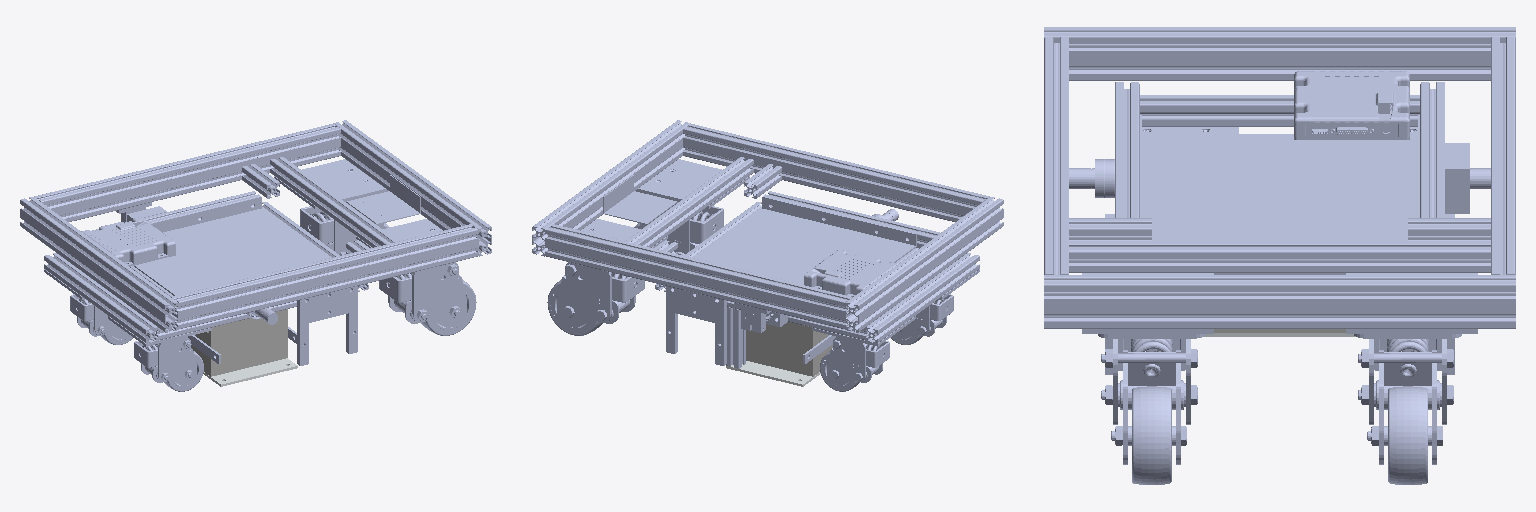
--- Render facts (derived) ---
3 views of the same robot in one strip: view 1: azimuth 30°, elevation 25°; view 2: azimuth 150°, elevation 25°; view 3: azimuth 270°, elevation 25° (orthographic).
Model cad_assembly_amr_final_1 with 40 links and 39 joints (2 continuous, 2 prismatic, 35 fixed), rooted at base_link, posed all joints at 0.
Visible links, largest first — view 1: Link3, Link33, Link4, Link5, Link6, Link17, Link2, Link16, Link8, Link1, Link21, Link35 (+10 smaller); view 2: Link4, Link33, Link3, Link5, Link6, Link23, Link2, Link16, Link1, Link28, Link8, Link34 (+12 smaller); view 3: Link33, Link6, Link5, Link16, Link17, Link23, Link8, Link3, Link4, Link1, Link26, Link27 (+10 smaller).
Link boxes in pixels (x1,y1,x2,y2): Link3: (171, 224, 477, 328); Link33: (134, 196, 328, 295); Link4: (34, 123, 340, 221); Link5: (20, 197, 178, 332); Link6: (334, 120, 491, 256); Link17: (379, 262, 476, 335); Link2: (191, 309, 287, 376); Link16: (270, 157, 398, 247); Link8: (81, 217, 175, 266); Link1: (44, 253, 158, 343); Link21: (134, 337, 203, 391); Link35: (297, 286, 357, 365); Link4: (546, 224, 852, 328); Link33: (695, 196, 916, 284); Link3: (683, 123, 989, 221); Link5: (845, 197, 1003, 332); Link6: (532, 120, 689, 256); Link23: (547, 262, 644, 335); Link2: (746, 322, 832, 376); Link16: (625, 157, 753, 247); Link1: (865, 253, 979, 343); Link28: (820, 337, 889, 391); Link8: (804, 250, 897, 296); Link34: (666, 286, 726, 365); Link33: (1140, 115, 1419, 240); Link6: (1044, 275, 1515, 328); Link5: (1044, 27, 1515, 80); Link16: (1069, 241, 1490, 272); Link17: (1098, 334, 1205, 484); Link23: (1354, 334, 1461, 484); Link8: (1294, 71, 1409, 139); Link3: (1044, 37, 1068, 274); Link4: (1491, 37, 1515, 274); Link1: (1140, 95, 1419, 126); Link26: (1115, 82, 1139, 217); Link27: (1420, 82, 1444, 217).
Bounding box of the posed robot: 0.7703 × 0.57 × 0.276 m (x, y, z).
Meshes: 40 distinct files referenced, 36 mesh visuals loaded (36 binary STL); not drawn: 4 (reference not matched to a file when rendering).

robot.urdf — cad_assembly_amr_final_1:
<?xml version="1.0" encoding="utf-8"?>
<!-- This URDF was automatically created by SolidWorks to URDF Exporter! Originally created by Stephen Brawner ([email redacted]) 
     Commit Version: 1.6.0-4-g7f85cfe  Build Version: 1.6.7995.38578
     For more information, please see http://wiki.ros.org/sw_urdf_exporter -->
<robot 
  name="cad_assembly_amr_final_1">


<!--                     GAZEBO_PLUGINS                  -->

  <gazebo>
    <plugin filename="libgazebo_ros_diff_drive.so" name="differential_drive_controller" >
      <legacyMode>false</legacyMode>
      <alwaysOn>true</alwaysOn>
      <updateRate>20</updateRate>
      <leftJoint>left_joint</leftJoint>
      <rightJoint>joint_right</rightJoint>
      <wheelSeparation>0.56</wheelSeparation>
      <wheelDiameter>0.154</wheelDiameter>
      <torque>4</torque>
      <commandTopic>cmd_vel</commandTopic>
      <odometryTopic>odom</odometryTopic>
      <odometryFrame>odom</odometryFrame>
      <robotBaseFrame>base_link</robotBaseFrame>
    </plugin>
  </gazebo>

  <gazebo reference="sensor_laser">
    <sensor type="ray" name="head_hokuyo_sensor">
      <pose>0 0 0 0 0 0</pose>
      <visualize>false</visualize>
      <update_rate>40</update_rate>
      <ray>
        <scan>
          <horizontal>
            <samples>720</samples>
            <resolution>1</resolution>
            <min_angle>-1.570796</min_angle>
            <max_angle>1.570796</max_angle>
          </horizontal>
        </scan>
        <range>
          <min>0.10</min>
          <max>10.0</max>
          <resolution>0.01</resolution>
        </range>
        <noise>
          <type>gaussian</type>
          <mean>0.0</mean>
          <stddev>0.01</stddev>
        </noise>
      </ray>
      <plugin name="gazebo_ros_head_hokuyo_controller" filename="libgazebo_ros_laser.so">
        <topicName>/cad_assembly_amr_final_1/laser/scan</topicName>
        <frameName>sensor_laser</frameName>
      </plugin>
    </sensor>
  </gazebo>

<!--                     URDF               -->

  <link
    name="base_link">
    <inertial>
      <origin
        xyz="-0.216440047250855 -0.0311678812011165 0.0267999999999496"
        rpy="0 0 0" />
      <mass
        value="0.941935769065505" />
      <inertia
        ixx="0.0124970752255346"
        ixy="3.31870238430256E-17"
        ixz="-8.36937029359261E-18"
        iyy="0.0023975609154183"
        iyz="-4.36036057524128E-17"
        izz="0.0148907114085818" />
    </inertial>
    <visual>
      <origin
        xyz="0 0 0"
        rpy="0 0 0" />
      <geometry>
        <mesh
          filename="package://cad_assembly_amr_final_1/meshes/base_link.STL" />
      </geometry>
      <material
        name="">
        <color
          rgba="0.898039215686275 0.917647058823529 0.929411764705882 1" />
      </material>
    </visual>
    <collision>
      <origin
        xyz="0 0 0"
        rpy="0 0 0" />
      <geometry>
        <mesh
          filename="package://cad_assembly_amr_final_1/meshes/base_link.STL" />
      </geometry>
    </collision>
  </link>
  <link
    name="left_wheel">
    <inertial>
      <origin
        xyz="5.73941775963982E-05 -0.0547817281545586 0.000662361701355196"
        rpy="0 0 0" />
      <mass
        value="1.15411724032787" />
      <inertia
        ixx="0.00169670713331925"
        ixy="8.3068554945323E-08"
        ixz="-1.47480764218124E-07"
        iyy="0.00298663361197173"
        iyz="8.62121560025982E-08"
        izz="0.00167881991277623" />
    </inertial>
    <visual>
      <origin
        xyz="0 0 0"
        rpy="0 0 0" />
      <geometry>
        <mesh
          filename="package://cad_assembly_amr_final_1/meshes/left_wheel.STL" />
      </geometry>
      <material
        name="">
        <color
          rgba="0.792156862745098 0.819607843137255 0.933333333333333 1" />
      </material>
    </visual>
    <collision>
      <origin
        xyz="0 0 0"
        rpy="0 0 0" />
      <geometry>
        <mesh
          filename="package://cad_assembly_amr_final_1/meshes/left_wheel.STL" />
      </geometry>
    </collision>
  </link>
  <joint
    name="left_joint"
    type="continuous">
    <origin
      xyz="-0.0649400472508853 0.249032118798883 0.0781599999999999"
      rpy="0 0 0" />
    <parent
      link="base_link" />
    <child
      link="left_wheel" />
    <axis
      xyz="0 -1 0" />
    <limit
      effort="5"
      velocity="315" />
  </joint>
  <link
    name="right_wheel">
    <inertial>
      <origin
        xyz="-5.73941775350029E-05 0.0547817281545965 0.000662361701394734"
        rpy="0 0 0" />
      <mass
        value="1.15411724032822" />
      <inertia
        ixx="0.00169670713331966"
        ixy="8.30685548989815E-08"
        ixz="1.47480764332087E-07"
        iyy="0.00298663361197211"
        iyz="-8.62121559036301E-08"
        izz="0.00167881991277635" />
    </inertial>
    <visual>
      <origin
        xyz="0 0 0"
        rpy="0 0 0" />
      <geometry>
        <mesh
          filename="package://cad_assembly_amr_final_1/meshes/right_wheel.STL" />
      </geometry>
      <material
        name="">
        <color
          rgba="0.792156862745098 0.819607843137255 0.933333333333333 1" />
      </material>
    </visual>
    <collision>
      <origin
        xyz="0 0 0"
        rpy="0 0 0" />
      <geometry>
        <mesh
          filename="package://cad_assembly_amr_final_1/meshes/right_wheel.STL" />
      </geometry>
    </collision>
  </link>
  <joint
    name="joint_right"
    type="continuous">
    <origin
      xyz="-0.0649400472508853 -0.311367881201119 0.0781599999999999"
      rpy="0 0 0" />
    <parent
      link="base_link" />
    <child
      link="right_wheel" />
    <axis
      xyz="0 -1 0" />
    <limit
      effort="5"
      velocity="315" />
  </joint>
  <link
    name="Link1">
    <inertial>
      <origin
        xyz="-0.458940047250855 -0.0311678812011156 0.172299999999953"
        rpy="0 0 0" />
      <mass
        value="0.15370520802836" />
      <inertia
        ixx="0.00206367743977508"
        ixy="2.90201902564923E-21"
        ixz="-3.90910694090929E-21"
        iyy="2.85493321272229E-05"
        iyz="-8.57924550641996E-21"
        izz="0.00206367743977508" />
    </inertial>
    <visual>
      <origin
        xyz="0 0 0"
        rpy="0 0 0" />
      <geometry>
        <mesh
          filename="package://cad_assembly_amr_final_1/meshes/Link1.STL" />
      </geometry>
      <material
        name="">
        <color
          rgba="0.792156862745098 0.819607843137255 0.933333333333333 1" />
      </material>
    </visual>
    <collision>
      <origin
        xyz="0 0 0"
        rpy="0 0 0" />
      <geometry>
        <mesh
          filename="package://cad_assembly_amr_final_1/meshes/Link1.STL" />
      </geometry>
    </collision>
  </link>
  <joint
    name="joint1"
    type="fixed">
    <origin
      xyz="0 0 0"
      rpy="0 0 0" />
    <parent
      link="base_link" />
    <child
      link="Link1" />
    <axis
      xyz="0 0 0" />
  </joint>
  <link
    name="Link2">
    <inertial>
      <origin
        xyz="-0.216490430161542 -0.0312444036729151 0.107765712146774"
        rpy="0 0 0" />
      <mass
        value="8.71276230076757" />
      <inertia
        ixx="0.0919527713651485"
        ixy="-6.14228140772403E-05"
        ixz="1.26116698146279E-05"
        iyy="0.0398150311485115"
        iyz="1.91549924270925E-05"
        izz="0.096665853431385" />
    </inertial>
    <visual>
      <origin
        xyz="0 0 0"
        rpy="0 0 0" />
      <geometry>
        <mesh
          filename="package://cad_assembly_amr_final_1/meshes/Link2.STL" />
      </geometry>
      <material
        name="">
        <color
          rgba="0.752941176470588 0.752941176470588 0.752941176470588 1" />
      </material>
    </visual>
    <collision>
      <origin
        xyz="0 0 0"
        rpy="0 0 0" />
      <geometry>
        <mesh
          filename="package://cad_assembly_amr_final_1/meshes/Link2.STL" />
      </geometry>
    </collision>
  </link>
  <joint
    name="Joint2"
    type="prismatic">
    <origin
      xyz="0 0 0"
      rpy="0 0 0" />
    <parent
      link="base_link" />
    <child
      link="Link2" />
    <axis
      xyz="0 0 1" />
    <limit
      lower="0"
      upper="0"
      effort="0"
      velocity="0" />
  </joint>
  <link
    name="Link3">
    <inertial>
      <origin
        xyz="-0.108940047250836 -0.301167881198528 0.246000000014389"
        rpy="0 0 0" />
      <mass
        value="0.436520685221923" />
      <inertia
        ixx="0.000205716006741984"
        ixy="-5.92031368264508E-17"
        ixz="-3.8099743968262E-19"
        iyy="0.0169853684284612"
        iyz="3.96954847930399E-09"
        izz="0.0168615417193838" />
    </inertial>
    <visual>
      <origin
        xyz="0 0 0"
        rpy="0 0 0" />
      <geometry>
        <mesh
          filename="package://cad_assembly_amr_final_1/meshes/Link3.STL" />
      </geometry>
      <material
        name="">
        <color
          rgba="0.792156862745098 0.819607843137255 0.933333333333333 1" />
      </material>
    </visual>
    <collision>
      <origin
        xyz="0 0 0"
        rpy="0 0 0" />
      <geometry>
        <mesh
          filename="package://cad_assembly_amr_final_1/meshes/Link3.STL" />
      </geometry>
    </collision>
  </link>
  <joint
    name="Joint3"
    type="fixed">
    <origin
      xyz="0 0 0"
      rpy="0 0 0" />
    <parent
      link="base_link" />
    <child
      link="Link3" />
    <axis
      xyz="0 0 0" />
  </joint>
  <link
    name="Link4">
    <inertial>
      <origin
        xyz="-0.108940047250849 0.238832118801473 0.246000000014392"
        rpy="0 0 0" />
      <mass
        value="0.436520685221924" />
      <inertia
        ixx="0.000205716006741984"
        ixy="-6.53733304446301E-17"
        ixz="-1.42190742874982E-19"
        iyy="0.0169853684284612"
        iyz="3.96954847929519E-09"
        izz="0.0168615417193838" />
    </inertial>
    <visual>
      <origin
        xyz="0 0 0"
        rpy="0 0 0" />
      <geometry>
        <mesh
          filename="package://cad_assembly_amr_final_1/meshes/Link4.STL" />
      </geometry>
      <material
        name="">
        <color
          rgba="0.792156862745098 0.819607843137255 0.933333333333333 1" />
      </material>
    </visual>
    <collision>
      <origin
        xyz="0 0 0"
        rpy="0 0 0" />
      <geometry>
        <mesh
          filename="package://cad_assembly_amr_final_1/meshes/Link4.STL" />
      </geometry>
    </collision>
  </link>
  <joint
    name="Joint4"
    type="fixed">
    <origin
      xyz="0 0 0"
      rpy="0 0 0" />
    <parent
      link="base_link" />
    <child
      link="Link4" />
    <axis
      xyz="0 0 0" />
  </joint>
  <link
    name="Link5">
    <inertial>
      <origin
        xyz="-0.463940047248248 -0.0311678812011161 0.246000000014383"
        rpy="0 0 0" />
      <mass
        value="0.365907044965438" />
      <inertia
        ixx="0.0100450504100988"
        ixy="-4.70359182903092E-20"
        ixz="3.32741563710327E-09"
        iyy="0.000172438417416075"
        iyz="-1.15593361528387E-19"
        izz="0.00994125449219573" />
    </inertial>
    <visual>
      <origin
        xyz="0 0 0"
        rpy="0 0 0" />
      <geometry>
        <mesh
          filename="package://cad_assembly_amr_final_1/meshes/Link5.STL" />
      </geometry>
      <material
        name="">
        <color
          rgba="0.792156862745098 0.819607843137255 0.933333333333333 1" />
      </material>
    </visual>
    <collision>
      <origin
        xyz="0 0 0"
        rpy="0 0 0" />
      <geometry>
        <mesh
          filename="package://cad_assembly_amr_final_1/meshes/Link5.STL" />
      </geometry>
    </collision>
  </link>
  <joint
    name="Joint5"
    type="fixed">
    <origin
      xyz="0 0 0"
      rpy="0 0 0" />
    <parent
      link="base_link" />
    <child
      link="Link5" />
    <axis
      xyz="0 0 0" />
  </joint>
  <link
    name="Link6">
    <inertial>
      <origin
        xyz="0.246059952751741 -0.0311678812011162 0.246000000014393"
        rpy="0 0 0" />
      <mass
        value="0.365907044965436" />
      <inertia
        ixx="0.0100450504100988"
        ixy="-3.50320549018335E-20"
        ixz="3.32741563708656E-09"
        iyy="0.000172438417416075"
        iyz="-1.32818398610428E-19"
        izz="0.0099412544921957" />
    </inertial>
    <visual>
      <origin
        xyz="0 0 0"
        rpy="0 0 0" />
      <geometry>
        <mesh
          filename="package://cad_assembly_amr_final_1/meshes/Link6.STL" />
      </geometry>
      <material
        name="">
        <color
          rgba="0.792156862745098 0.819607843137255 0.933333333333333 1" />
      </material>
    </visual>
    <collision>
      <origin
        xyz="0 0 0"
        rpy="0 0 0" />
      <geometry>
        <mesh
          filename="package://cad_assembly_amr_final_1/meshes/Link6.STL" />
      </geometry>
    </collision>
  </link>
  <joint
    name="Joint6"
    type="fixed">
    <origin
      xyz="0 0 0"
      rpy="0 0 0" />
    <parent
      link="base_link" />
    <child
      link="Link6" />
    <axis
      xyz="0 0 0" />
  </joint>
  <link
    name="Link7">
    <inertial>
      <origin
        xyz="-0.143940047250853 0.153832118798883 0.0932999999999522"
        rpy="0 0 0" />
      <mass
        value="0.049185666569075" />
      <inertia
        ixx="7.17227232293328E-05"
        ixy="-5.54037167522794E-21"
        ixz="-4.38999970166423E-19"
        iyy="7.17227232293328E-05"
        iyz="-6.39884951765641E-21"
        izz="9.13578628071131E-06" />
    </inertial>
    <visual>
      <origin
        xyz="0 0 0"
        rpy="0 0 0" />
      <geometry>
        <mesh
          filename="package://cad_assembly_amr_final_1/meshes/Link7.STL" />
      </geometry>
      <material
        name="">
        <color
          rgba="0.792156862745098 0.819607843137255 0.933333333333333 1" />
      </material>
    </visual>
    <collision>
      <origin
        xyz="0 0 0"
        rpy="0 0 0" />
      <geometry>
        <mesh
          filename="package://cad_assembly_amr_final_1/meshes/Link7.STL" />
      </geometry>
    </collision>
  </link>
  <joint
    name="Joint7"
    type="fixed">
    <origin
      xyz="0 0 0"
      rpy="0 0 0" />
    <parent
      link="base_link" />
    <child
      link="Link7" />
    <axis
      xyz="0 0 0" />
  </joint>
  <link
    name="Link8">
    <inertial>
      <origin
        xyz="-0.34461493448113 0.0576127554531144 0.227311211733729"
        rpy="0 0 0" />
      <mass
        value="0.167225523651081" />
      <inertia
        ixx="0.000275275668175092"
        ixy="-2.89256050943276E-06"
        ixz="1.63881732203638E-07"
        iyy="0.000234531995078022"
        iyz="6.81651222029033E-08"
        izz="0.000502995235545693" />
    </inertial>
    <visual>
      <origin
        xyz="0 0 0"
        rpy="0 0 0" />
      <geometry>
        <mesh
          filename="package://cad_assembly_amr_final_1/meshes/Link8.STL" />
      </geometry>
      <material
        name="">
        <color
          rgba="0.792156862745098 0.819607843137255 0.933333333333333 1" />
      </material>
    </visual>
    <collision>
      <origin
        xyz="0 0 0"
        rpy="0 0 0" />
      <geometry>
        <mesh
          filename="package://cad_assembly_amr_final_1/meshes/Link8.STL" />
      </geometry>
    </collision>
  </link>
  <joint
    name="Joint8"
    type="prismatic">
    <origin
      xyz="0 0 0"
      rpy="0 0 0" />
    <parent
      link="base_link" />
    <child
      link="Link8" />
    <axis
      xyz="0 0 1" />
    <limit
      lower="0"
      upper="0"
      effort="0"
      velocity="0" />
  </joint>
  <link
    name="Link9">
    <inertial>
      <origin
        xyz="-0.231940047250852 0.208822722298121 0.187299999999951"
        rpy="0 0 0" />
      <mass
        value="0.0391600670951286" />
      <inertia
        ixx="2.24437538896452E-05"
        ixy="-6.64015770809315E-20"
        ixz="2.80630673249095E-22"
        iyy="3.05153745176888E-06"
        iyz="1.35760775584513E-20"
        izz="2.24437538896452E-05" />
    </inertial>
    <visual>
      <origin
        xyz="0 0 0"
        rpy="0 0 0" />
      <geometry>
        <mesh
          filename="package://cad_assembly_amr_final_1/meshes/Link9.STL" />
      </geometry>
      <material
        name="">
        <color
          rgba="0.792156862745098 0.819607843137255 0.933333333333333 1" />
      </material>
    </visual>
    <collision>
      <origin
        xyz="0 0 0"
        rpy="0 0 0" />
      <geometry>
        <mesh
          filename="package://cad_assembly_amr_final_1/meshes/Link9.STL" />
      </geometry>
    </collision>
  </link>
  <joint
    name="Joint9"
    type="fixed">
    <origin
      xyz="0 0 0"
      rpy="0 0 0" />
    <parent
      link="base_link" />
    <child
      link="Link9" />
    <axis
      xyz="0 0 1" />
  </joint>
  <link
    name="Link10">
    <inertial>
      <origin
        xyz="-0.338940047250853 -0.0311678812011153 0.172299999999948"
        rpy="0 0 0" />
      <mass
        value="0.130649426824106" />
      <inertia
        ixx="0.00127072294455962"
        ixy="-2.74895614072112E-21"
        ixz="-4.26701118985479E-21"
        iyy="2.42669323081394E-05"
        iyz="3.66726053682152E-21"
        izz="0.00127072294455962" />
    </inertial>
    <visual>
      <origin
        xyz="0 0 0"
        rpy="0 0 0" />
      <geometry>
        <mesh
          filename="package://cad_assembly_amr_final_1/meshes/Link10.STL" />
      </geometry>
      <material
        name="">
        <color
          rgba="0.792156862745098 0.819607843137255 0.933333333333333 1" />
      </material>
    </visual>
    <collision>
      <origin
        xyz="0 0 0"
        rpy="0 0 0" />
      <geometry>
        <mesh
          filename="package://cad_assembly_amr_final_1/meshes/Link10.STL" />
      </geometry>
    </collision>
  </link>
  <joint
    name="joint10"
    type="fixed">
    <origin
      xyz="0 0 0"
      rpy="0 0 0" />
    <parent
      link="base_link" />
    <child
      link="Link10" />
    <axis
      xyz="0 0 0" />
  </joint>
  <link
    name="Link11">
    <inertial>
      <origin
        xyz="-0.39894032888209 -0.15616793697623 0.154300404631122"
        rpy="0 0 0" />
      <mass
        value="0.129293462534657" />
      <inertia
        ixx="0.000238325033060038"
        ixy="-1.11769772959299E-09"
        ixz="1.74400910964592E-11"
        iyy="0.000238264542930696"
        iyz="-9.64634866429045E-12"
        izz="0.000475813644424298" />
    </inertial>
    <visual>
      <origin
        xyz="0 0 0"
        rpy="0 0 0" />
      <geometry>
        <mesh
          filename="package://cad_assembly_amr_final_1/meshes/Link11.STL" />
      </geometry>
      <material
        name="">
        <color
          rgba="0.792156862745098 0.819607843137255 0.933333333333333 1" />
      </material>
    </visual>
    <collision>
      <origin
        xyz="0 0 0"
        rpy="0 0 0" />
      <geometry>
        <mesh
          filename="package://cad_assembly_amr_final_1/meshes/Link11.STL" />
      </geometry>
    </collision>
  </link>
  <joint
    name="Joint11"
    type="fixed">
    <origin
      xyz="0 0 0"
      rpy="0 0 0" />
    <parent
      link="base_link" />
    <child
      link="Link11" />
    <axis
      xyz="0 0 0" />
  </joint>
  <link
    name="Link12">
    <inertial>
      <origin
        xyz="-0.398940328882089 0.0938320630237707 0.154300404631121"
        rpy="0 0 0" />
      <mass
        value="0.129293462534657" />
      <inertia
        ixx="0.000238325033060038"
        ixy="-1.11769772956574E-09"
        ixz="1.74400910811975E-11"
        iyy="0.000238264542930696"
        iyz="-9.64634865955567E-12"
        izz="0.000475813644424298" />
    </inertial>
    <visual>
      <origin
        xyz="0 0 0"
        rpy="0 0 0" />
      <geometry>
        <mesh
          filename="package://cad_assembly_amr_final_1/meshes/Link12.STL" />
      </geometry>
      <material
        name="">
        <color
          rgba="0.792156862745098 0.819607843137255 0.933333333333333 1" />
      </material>
    </visual>
    <collision>
      <origin
        xyz="0 0 0"
        rpy="0 0 0" />
      <geometry>
        <mesh
          filename="package://cad_assembly_amr_final_1/meshes/Link12.STL" />
      </geometry>
    </collision>
  </link>
  <joint
    name="Joint12"
    type="fixed">
    <origin
      xyz="0 0 0"
      rpy="0 0 0" />
    <parent
      link="base_link" />
    <child
      link="Link12" />
    <axis
      xyz="0 0 0" />
  </joint>
  <link
    name="Link13">
    <inertial>
      <origin
        xyz="0.166060194442634 -0.191167238858664 0.213000461362713"
        rpy="0 0 0" />
      <mass
        value="0.176211069113397" />
      <inertia
        ixx="0.000377128569827464"
        ixy="-5.87470674607782E-11"
        ixz="1.30516120517496E-10"
        iyy="0.000520401312984034"
        iyz="-9.56457410198861E-11"
        izz="0.000896472361284732" />
    </inertial>
    <visual>
      <origin
        xyz="0 0 0"
        rpy="0 0 0" />
      <geometry>
        <mesh
          filename="package://cad_assembly_amr_final_1/meshes/Link13.STL" />
      </geometry>
      <material
        name="">
        <color
          rgba="0.792156862745098 0.819607843137255 0.933333333333333 1" />
      </material>
    </visual>
    <collision>
      <origin
        xyz="0 0 0"
        rpy="0 0 0" />
      <geometry>
        <mesh
          filename="package://cad_assembly_amr_final_1/meshes/Link13.STL" />
      </geometry>
    </collision>
  </link>
  <joint
    name="Joint13"
    type="fixed">
    <origin
      xyz="0 0 0"
      rpy="0 0 0" />
    <parent
      link="base_link" />
    <child
      link="Link13" />
    <axis
      xyz="0 0 0" />
  </joint>
  <link
    name="Link14">
    <inertial>
      <origin
        xyz="0.166060194442634 0.128832761141336 0.213000461362742"
        rpy="0 0 0" />
      <mass
        value="0.176211069113397" />
      <inertia
        ixx="0.000377128569827464"
        ixy="-5.87470673558241E-11"
        ixz="1.30516120518467E-10"
        iyy="0.000520401312984033"
        iyz="-9.56457410195288E-11"
        izz="0.000896472361284732" />
    </inertial>
    <visual>
      <origin
        xyz="0 0 0"
        rpy="0 0 0" />
      <geometry>
        <mesh
          filename="package://cad_assembly_amr_final_1/meshes/Link14.STL" />
      </geometry>
      <material
        name="">
        <color
          rgba="0.792156862745098 0.819607843137255 0.933333333333333 1" />
      </material>
    </visual>
    <collision>
      <origin
        xyz="0 0 0"
        rpy="0 0 0" />
      <geometry>
        <mesh
          filename="package://cad_assembly_amr_final_1/meshes/Link14.STL" />
      </geometry>
    </collision>
  </link>
  <joint
    name="Joint14"
    type="fixed">
    <origin
      xyz="0 0 0"
      rpy="0 0 0" />
    <parent
      link="base_link" />
    <child
      link="Link14" />
    <axis
      xyz="0 0 0" />
  </joint>
  <link
    name="Link15">
    <inertial>
      <origin
        xyz="0.193802618405017 -0.0311748788022809 0.223807483818397"
        rpy="0 0 0" />
      <mass
        value="0.0323246017763136" />
      <inertia
        ixx="4.18109611006956E-05"
        ixy="-3.78710175068604E-09"
        ixz="-5.63438975707762E-06"
        iyy="3.78541672516329E-05"
        iyz="-1.08742722110766E-09"
        izz="7.36785445888019E-05" />
    </inertial>
    <visual>
      <origin
        xyz="0 0 0"
        rpy="0 0 0" />
      <geometry>
        <mesh
          filename="package://cad_assembly_amr_final_1/meshes/Link15.STL" />
      </geometry>
      <material
        name="">
        <color
          rgba="0.792156862745098 0.819607843137255 0.933333333333333 1" />
      </material>
    </visual>
    <collision>
      <origin
        xyz="0 0 0"
        rpy="0 0 0" />
      <geometry>
        <mesh
          filename="package://cad_assembly_amr_final_1/meshes/Link15.STL" />
      </geometry>
    </collision>
  </link>
  <joint
    name="Joint15"
    type="fixed">
    <origin
      xyz="0 0 0"
      rpy="0 0 0" />
    <parent
      link="base_link" />
    <child
      link="Link15" />
    <axis
      xyz="0 0 0" />
  </joint>
  <link
    name="Link16">
    <inertial>
      <origin
        xyz="0.0860599527491482 -0.0311678812011154 0.230999999999248"
        rpy="0 0 0" />
      <mass
        value="0.195974140236158" />
      <inertia
        ixx="0.00426593968884983"
        ixy="1.11831806580405E-21"
        ixz="-5.99302047317472E-21"
        iyy="3.64003984622091E-05"
        iyz="3.53700427244591E-20"
        izz="0.00426593968884983" />
    </inertial>
    <visual>
      <origin
        xyz="0 0 0"
        rpy="0 0 0" />
      <geometry>
        <mesh
          filename="package://cad_assembly_amr_final_1/meshes/Link16.STL" />
      </geometry>
      <material
        name="">
        <color
          rgba="0.792156862745098 0.819607843137255 0.933333333333333 1" />
      </material>
    </visual>
    <collision>
      <origin
        xyz="0 0 0"
        rpy="0 0 0" />
      <geometry>
        <mesh
          filename="package://cad_assembly_amr_final_1/meshes/Link16.STL" />
      </geometry>
    </collision>
  </link>
  <joint
    name="Joint16"
    type="fixed">
    <origin
      xyz="0 0 0"
      rpy="0 0 0" />
    <parent
      link="base_link" />
    <child
      link="Link16" />
    <axis
      xyz="0 0 0" />
  </joint>
  <link
    name="Link17">
    <inertial>
      <origin
        xyz="0.196624239141828 -0.186353876739846 0.103749732519713"
        rpy="0 0 0" />
      <mass
        value="1.0734800046616" />
      <inertia
        ixx="0.00296390285215948"
        ixy="8.51874920600184E-08"
        ixz="3.34931569820815E-05"
        iyy="0.00355102148123258"
        iyz="-1.81437140577416E-06"
        izz="0.00229403118843101" />
    </inertial>
    <visual>
      <origin
        xyz="0 0 0"
        rpy="0 0 0" />
      <geometry>
        <mesh
          filename="package://cad_assembly_amr_final_1/meshes/Link17.STL" />
      </geometry>
      <material
        name="">
        <color
          rgba="0.792156862745098 0.819607843137255 0.933333333333333 1" />
      </material>
    </visual>
    <collision>
      <origin
        xyz="0 0 0"
        rpy="0 0 0" />
      <geometry>
        <mesh
          filename="package://cad_assembly_amr_final_1/meshes/Link17.STL" />
      </geometry>
    </collision>
  </link>
  <joint
    name="Joint17"
    type="fixed">
    <origin
      xyz="0 0 0"
      rpy="0 0 0" />
    <parent
      link="base_link" />
    <child
      link="Link17" />
    <axis
      xyz="0 0 0" />
  </joint>
  <link
    name="Link18">
    <inertial>
      <origin
        xyz="-0.231940047250849 -0.27115848470035 0.187299999999947"
        rpy="0 0 0" />
      <mass
        value="0.0391600670951286" />
      <inertia
        ixx="2.24437538896452E-05"
        ixy="4.20113625114063E-22"
        ixz="1.57039549976015E-22"
        iyy="3.05153745176888E-06"
        iyz="8.01961844946684E-20"
        izz="2.24437538896452E-05" />
    </inertial>
    <visual>
      <origin
        xyz="0 0 0"
        rpy="0 0 0" />
      <geometry>
        <mesh
          filename="package://cad_assembly_amr_final_1/meshes/Link18.STL" />
      </geometry>
      <material
        name="">
        <color
          rgba="0.792156862745098 0.819607843137255 0.933333333333333 1" />
      </material>
    </visual>
    <collision>
      <origin
        xyz="0 0 0"
        rpy="0 0 0" />
      <geometry>
        <mesh
          filename="package://cad_assembly_amr_final_1/meshes/Link18.STL" />
      </geometry>
    </collision>
  </link>
  <joint
    name="Joint18"
    type="fixed">
    <origin
      xyz="0 0 0"
      rpy="0 0 0" />
    <parent
      link="base_link" />
    <child
      link="Link18" />
    <axis
      xyz="0 0 1" />
    <limit
      lower="0"
      upper="0"
      effort="0"
      velocity="0" />
  </joint>
  <link
    name="Link19">
    <inertial>
      <origin
        xyz="-0.21644004725085 -0.0311678812011161 0.0267999999999432"
        rpy="0 0 0" />
      <mass
        value="0.941935769065505" />
      <inertia
        ixx="0.0124970752255346"
        ixy="3.31870238430256E-17"
        ixz="-8.36937029359261E-18"
        iyy="0.0023975609154183"
        iyz="-4.36036057524128E-17"
        izz="0.0148907114085818" />
    </inertial>
    <visual>
      <origin
        xyz="0 0 0"
        rpy="0 0 0" />
      <geometry>
        <mesh
          filename="package://cad_assembly_amr_final_1/meshes/Link19.STL" />
      </geometry>
      <material
        name="">
        <color
          rgba="0.898039215686275 0.917647058823529 0.929411764705882 1" />
      </material>
    </visual>
    <collision>
      <origin
        xyz="0 0 0"
        rpy="0 0 0" />
      <geometry>
        <mesh
          filename="package://cad_assembly_amr_final_1/meshes/Link19.STL" />
      </geometry>
    </collision>
  </link>
  <joint
    name="Joint19"
    type="fixed">
    <origin
      xyz="0 0 0"
      rpy="0 0 0" />
    <parent
      link="base_link" />
    <child
      link="Link19" />
    <axis
      xyz="0 0 0" />
  </joint>
  <link
    name="Link20">
    <inertial>
      <origin
        xyz="-0.306440047250851 -0.0311678812011168 0.084299999999942"
        rpy="0 0 0" />
      <mass
        value="0.0394325498269454" />
      <inertia
        ixx="0.000515240559709496"
        ixy="3.56939373489624E-18"
        ixz="7.27001479432645E-21"
        iyy="1.41292208661844E-06"
        iyz="3.64410592174574E-18"
        izz="0.000513991939913823" />
    </inertial>
    <visual>
      <origin
        xyz="0 0 0"
        rpy="0 0 0" />
      <geometry>
        <mesh
          filename="package://cad_assembly_amr_final_1/meshes/Link20.STL" />
      </geometry>
      <material
        name="">
        <color
          rgba="0.792156862745098 0.819607843137255 0.933333333333333 1" />
      </material>
    </visual>
    <collision>
      <origin
        xyz="0 0 0"
        rpy="0 0 0" />
      <geometry>
        <mesh
          filename="package://cad_assembly_amr_final_1/meshes/Link20.STL" />
      </geometry>
    </collision>
  </link>
  <joint
    name="Joint20"
    type="fixed">
    <origin
      xyz="0 0 0"
      rpy="0 0 0" />
    <parent
      link="base_link" />
    <child
      link="Link20" />
    <axis
      xyz="0 0 0" />
  </joint>
  <link
    name="Link21">
    <inertial>
      <origin
        xyz="-0.374883495664155 -0.156250461101378 0.0747492216621648"
        rpy="0 0 0" />
      <mass
        value="0.401469613500441" />
      <inertia
        ixx="0.000575391349633005"
        ixy="1.66472282521855E-08"
        ixz="6.50310711871671E-06"
        iyy="0.000689369729779345"
        iyz="-3.52827194156081E-07"
        izz="0.000445345589451271" />
    </inertial>
    <visual>
      <origin
        xyz="0 0 0"
        rpy="0 0 0" />
      <geometry>
        <mesh
          filename="package://cad_assembly_amr_final_1/meshes/Link21.STL" />
      </geometry>
      <material
        name="">
        <color
          rgba="0.792156862745098 0.819607843137255 0.933333333333333 1" />
      </material>
    </visual>
    <collision>
      <origin
        xyz="0 0 0"
        rpy="0 0 0" />
      <geometry>
        <mesh
          filename="package://cad_assembly_amr_final_1/meshes/Link21.STL" />
      </geometry>
    </collision>
  </link>
  <joint
    name="Joint21"
    type="fixed">
    <origin
      xyz="0 0 0"
      rpy="0 0 0" />
    <parent
      link="base_link" />
    <child
      link="Link21" />
    <axis
      xyz="0 0 0" />
  </joint>
  <link
    name="Link22">
    <inertial>
      <origin
        xyz="-0.126440047250849 -0.0311678812011155 0.0842999999999418"
        rpy="0 0 0" />
      <mass
        value="0.0394325498269454" />
      <inertia
        ixx="0.000515240559709496"
        ixy="3.59947679029071E-18"
        ixz="8.75164349335112E-21"
        iyy="1.41292208661844E-06"
        iyz="3.64590568245821E-18"
        izz="0.000513991939913823" />
    </inertial>
    <visual>
      <origin
        xyz="0 0 0"
        rpy="0 0 0" />
      <geometry>
        <mesh
          filename="package://cad_assembly_amr_final_1/meshes/Link22.STL" />
      </geometry>
      <material
        name="">
        <color
          rgba="0.792156862745098 0.819607843137255 0.933333333333333 1" />
      </material>
    </visual>
    <collision>
      <origin
        xyz="0 0 0"
        rpy="0 0 0" />
      <geometry>
        <mesh
          filename="package://cad_assembly_amr_final_1/meshes/Link22.STL" />
      </geometry>
    </collision>
  </link>
  <joint
    name="Joint22"
    type="fixed">
    <origin
      xyz="0 0 0"
      rpy="0 0 0" />
    <parent
      link="base_link" />
    <child
      link="Link22" />
    <axis
      xyz="0 0 0" />
  </joint>
  <link
    name="Link23">
    <inertial>
      <origin
        xyz="0.19662423914186 0.123646123260129 0.103749732519785"
        rpy="0 0 0" />
      <mass
        value="1.07348000466138" />
      <inertia
        ixx="0.00296390285214938"
        ixy="8.51874911187443E-08"
        ixz="3.34931569757985E-05"
        iyy="0.00355102148122461"
        iyz="-1.81437140749238E-06"
        izz="0.0022940311884329" />
    </inertial>
    <visual>
      <origin
        xyz="0 0 0"
        rpy="0 0 0" />
      <geometry>
        <mesh
          filename="package://cad_assembly_amr_final_1/meshes/Link23.STL" />
      </geometry>
      <material
        name="">
        <color
          rgba="0.792156862745098 0.819607843137255 0.933333333333333 1" />
      </material>
    </visual>
    <collision>
      <origin
        xyz="0 0 0"
        rpy="0 0 0" />
      <geometry>
        <mesh
          filename="package://cad_assembly_amr_final_1/meshes/Link23.STL" />
      </geometry>
    </collision>
  </link>
  <joint
    name="Joint23"
    type="fixed">
    <origin
      xyz="0 0 0"
      rpy="0 0 0" />
    <parent
      link="base_link" />
    <child
      link="Link23" />
    <axis
      xyz="0 0 0" />
  </joint>
  <link
    name="Link24">
    <inertial>
      <origin
        xyz="0.0210599527491509 0.173832118798874 0.230999999999198"
        rpy="0 0 0" />
      <mass
        value="0.0384263020070898" />
      <inertia
        ixx="3.55905848551444E-05"
        ixy="1.16386194672992E-21"
        ixz="-9.39867815142039E-22"
        iyy="7.1373330318057E-06"
        iyz="-6.28776957617616E-22"
        izz="3.55905848551444E-05" />
    </inertial>
    <visual>
      <origin
        xyz="0 0 0"
        rpy="0 0 0" />
      <geometry>
        <mesh
          filename="package://cad_assembly_amr_final_1/meshes/Link24.STL" />
      </geometry>
      <material
        name="">
        <color
          rgba="0.792156862745098 0.819607843137255 0.933333333333333 1" />
      </material>
    </visual>
    <collision>
      <origin
        xyz="0 0 0"
        rpy="0 0 0" />
      <geometry>
        <mesh
          filename="package://cad_assembly_amr_final_1/meshes/Link24.STL" />
      </geometry>
    </collision>
  </link>
  <joint
    name="Joint24"
    type="fixed">
    <origin
      xyz="0 0 0"
      rpy="0 0 0" />
    <parent
      link="base_link" />
    <child
      link="Link24" />
    <axis
      xyz="0 0 0" />
  </joint>
  <link
    name="Link25">
    <inertial>
      <origin
        xyz="0.021059952749151 -0.236167881201115 0.230999999999224"
        rpy="0 0 0" />
      <mass
        value="0.0384263020070898" />
      <inertia
        ixx="3.55905848551444E-05"
        ixy="1.03536633174158E-21"
        ixz="-1.51360319606566E-21"
        iyy="7.13733303180571E-06"
        iyz="-6.76511310487228E-22"
        izz="3.55905848551444E-05" />
    </inertial>
    <visual>
      <origin
        xyz="0 0 0"
        rpy="0 0 0" />
      <geometry>
        <mesh
          filename="package://cad_assembly_amr_final_1/meshes/Link25.STL" />
      </geometry>
      <material
        name="">
        <color
          rgba="0.792156862745098 0.819607843137255 0.933333333333333 1" />
      </material>
    </visual>
    <collision>
      <origin
        xyz="0 0 0"
        rpy="0 0 0" />
      <geometry>
        <mesh
          filename="package://cad_assembly_amr_final_1/meshes/Link25.STL" />
      </geometry>
    </collision>
  </link>
  <joint
    name="Joint25"
    type="fixed">
    <origin
      xyz="0 0 0"
      rpy="0 0 0" />
    <parent
      link="base_link" />
    <child
      link="Link25" />
    <axis
      xyz="0 0 0" />
  </joint>
  <link
    name="Link26">
    <inertial>
      <origin
        xyz="-0.221440047250849 -0.216167881198525 0.187300000015011"
        rpy="0 0 0" />
      <mass
        value="0.285664271946701" />
      <inertia
        ixx="0.000134622975000269"
        ixy="-1.63980396445789E-17"
        ixz="3.23205467449918E-20"
        iyy="0.00482188393612312"
        iyz="2.5977192254631E-09"
        izz="0.00474085028091808" />
    </inertial>
    <visual>
      <origin
        xyz="0 0 0"
        rpy="0 0 0" />
      <geometry>
        <mesh
          filename="package://cad_assembly_amr_final_1/meshes/Link26.STL" />
      </geometry>
      <material
        name="">
        <color
          rgba="0.792156862745098 0.819607843137255 0.933333333333333 1" />
      </material>
    </visual>
    <collision>
      <origin
        xyz="0 0 0"
        rpy="0 0 0" />
      <geometry>
        <mesh
          filename="package://cad_assembly_amr_final_1/meshes/Link26.STL" />
      </geometry>
    </collision>
  </link>
  <joint
    name="Joint26"
    type="fixed">
    <origin
      xyz="0 0 0"
      rpy="0 0 0" />
    <parent
      link="base_link" />
    <child
      link="Link26" />
    <axis
      xyz="0 0 0" />
  </joint>
  <link
    name="Link27">
    <inertial>
      <origin
        xyz="-0.22144004725085 0.153832118801476 0.187300000015025"
        rpy="0 0 0" />
      <mass
        value="0.285664271946701" />
      <inertia
        ixx="0.000134622975000269"
        ixy="-1.6398039644578E-17"
        ixz="3.23205467610406E-20"
        iyy="0.00482188393612312"
        iyz="2.59771922546387E-09"
        izz="0.00474085028091808" />
    </inertial>
    <visual>
      <origin
        xyz="0 0 0"
        rpy="0 0 0" />
      <geometry>
        <mesh
          filename="package://cad_assembly_amr_final_1/meshes/Link27.STL" />
      </geometry>
      <material
        name="">
        <color
          rgba="0.792156862745098 0.819607843137255 0.933333333333333 1" />
      </material>
    </visual>
    <collision>
      <origin
        xyz="0 0 0"
        rpy="0 0 0" />
      <geometry>
        <mesh
          filename="package://cad_assembly_amr_final_1/meshes/Link27.STL" />
      </geometry>
    </collision>
  </link>
  <joint
    name="Joint27"
    type="fixed">
    <origin
      xyz="0 0 0"
      rpy="0 0 0" />
    <parent
      link="base_link" />
    <child
      link="Link27" />
    <axis
      xyz="0 0 0" />
  </joint>
  <link
    name="Link28">
    <inertial>
      <origin
        xyz="-0.374883495664153 0.0936466817086076 0.0747492216621653"
        rpy="0 0 0" />
      <mass
        value="0.401469613500411" />
      <inertia
        ixx="0.000575391349632999"
        ixy="1.66472282498037E-08"
        ixz="6.5031071187309E-06"
        iyy="0.000689369729779311"
        iyz="-3.5282719416229E-07"
        izz="0.000445345589451252" />
    </inertial>
    <visual>
      <origin
        xyz="0 0 0"
        rpy="0 0 0" />
      <geometry>
        <mesh
          filename="package://cad_assembly_amr_final_1/meshes/Link28.STL" />
      </geometry>
      <material
        name="">
        <color
          rgba="0.792156862745098 0.819607843137255 0.933333333333333 1" />
      </material>
    </visual>
    <collision>
      <origin
        xyz="0 0 0"
        rpy="0 0 0" />
      <geometry>
        <mesh
          filename="package://cad_assembly_amr_final_1/meshes/Link28.STL" />
      </geometry>
    </collision>
  </link>
  <joint
    name="Joint28"
    type="fixed">
    <origin
      xyz="0 0 0"
      rpy="0 0 0" />
    <parent
      link="base_link" />
    <child
      link="Link28" />
    <axis
      xyz="0 0 0" />
  </joint>
  <link
    name="Link29">
    <inertial>
      <origin
        xyz="-0.231929570707067 0.183832118798885 0.187299999999943"
        rpy="0 0 0" />
      <mass
        value="0.0765369242121023" />
      <inertia
        ixx="3.75837417992498E-05"
        ixy="-1.49646180381934E-22"
        ixz="-1.86115637824479E-21"
        iyy="8.23761841472627E-05"
        iyz="-1.27054942088148E-21"
        izz="5.62729809798283E-05" />
    </inertial>
    <visual>
      <origin
        xyz="0 0 0"
        rpy="0 0 0" />
      <geometry>
        <mesh
          filename="package://cad_assembly_amr_final_1/meshes/Link29.STL" />
      </geometry>
      <material
        name="">
        <color
          rgba="0.792156862745098 0.819607843137255 0.933333333333333 1" />
      </material>
    </visual>
    <collision>
      <origin
        xyz="0 0 0"
        rpy="0 0 0" />
      <geometry>
        <mesh
          filename="package://cad_assembly_amr_final_1/meshes/Link29.STL" />
      </geometry>
    </collision>
  </link>
  <joint
    name="Joint29"
    type="fixed">
    <origin
      xyz="0 0 0"
      rpy="0 0 0" />
    <parent
      link="base_link" />
    <child
      link="Link29" />
    <axis
      xyz="0 0 0" />
  </joint>
  <link
    name="Link30">
    <inertial>
      <origin
        xyz="-0.231940178668732 -0.243164681601725 0.187299999999934"
        rpy="0 0 0" />
      <mass
        value="0.0168968699572401" />
      <inertia
        ixx="2.82168888591726E-06"
        ixy="-9.03063447762258E-21"
        ixz="2.7569671322451E-22"
        iyy="5.30104790498525E-06"
        iyz="-1.10240103062633E-11"
        izz="2.82142007622028E-06" />
    </inertial>
    <visual>
      <origin
        xyz="0 0 0"
        rpy="0 0 0" />
      <geometry>
        <mesh
          filename="package://cad_assembly_amr_final_1/meshes/Link30.STL" />
      </geometry>
      <material
        name="">
        <color
          rgba="0.792156862745098 0.819607843137255 0.933333333333333 1" />
      </material>
    </visual>
    <collision>
      <origin
        xyz="0 0 0"
        rpy="0 0 0" />
      <geometry>
        <mesh
          filename="package://cad_assembly_amr_final_1/meshes/Link30.STL" />
      </geometry>
    </collision>
  </link>
  <joint
    name="Joint30"
    type="fixed">
    <origin
      xyz="0 0 0"
      rpy="0 0 0" />
    <parent
      link="base_link" />
    <child
      link="Link30" />
    <axis
      xyz="0 0 0" />
  </joint>
  <link
    name="Link31">
    <inertial>
      <origin
        xyz="-0.231940178668693 0.180835318398275 0.187299999999944"
        rpy="0 0 0" />
      <mass
        value="0.0168968699572401" />
      <inertia
        ixx="2.82168888591726E-06"
        ixy="-8.64941407516074E-21"
        ixz="-4.15348065078189E-21"
        iyy="5.30104790498525E-06"
        iyz="-1.10240103057057E-11"
        izz="2.82142007622028E-06" />
    </inertial>
    <visual>
      <origin
        xyz="0 0 0"
        rpy="0 0 0" />
      <geometry>
        <mesh
          filename="package://cad_assembly_amr_final_1/meshes/Link31.STL" />
      </geometry>
      <material
        name="">
        <color
          rgba="0.792156862745098 0.819607843137255 0.933333333333333 1" />
      </material>
    </visual>
    <collision>
      <origin
        xyz="0 0 0"
        rpy="0 0 0" />
      <geometry>
        <mesh
          filename="package://cad_assembly_amr_final_1/meshes/Link31.STL" />
      </geometry>
    </collision>
  </link>
  <joint
    name="Joint31"
    type="fixed">
    <origin
      xyz="0 0 0"
      rpy="0 0 0" />
    <parent
      link="base_link" />
    <child
      link="Link31" />
    <axis
      xyz="0 0 0" />
  </joint>
  <link
    name="Link32">
    <inertial>
      <origin
        xyz="-0.231917087216282 0.238832144358291 0.19213076818306"
        rpy="0 0 0" />
      <mass
        value="0.0427853512427509" />
      <inertia
        ixx="1.47659649745295E-05"
        ixy="3.88263351007286E-11"
        ixz="2.46888863224477E-08"
        iyy="2.55229311948895E-05"
        iyz="2.84877921607819E-11"
        izz="1.37327360943571E-05" />
    </inertial>
    <visual>
      <origin
        xyz="0 0 0"
        rpy="0 0 0" />
      <geometry>
        <mesh
          filename="package://cad_assembly_amr_final_1/meshes/Link32.STL" />
      </geometry>
      <material
        name="">
        <color
          rgba="0.792156862745098 0.819607843137255 0.933333333333333 1" />
      </material>
    </visual>
    <collision>
      <origin
        xyz="0 0 0"
        rpy="0 0 0" />
      <geometry>
        <mesh
          filename="package://cad_assembly_amr_final_1/meshes/Link32.STL" />
      </geometry>
    </collision>
  </link>
  <joint
    name="Joint32"
    type="fixed">
    <origin
      xyz="0 0 0"
      rpy="0 0 0" />
    <parent
      link="base_link" />
    <child
      link="Link32" />
    <axis
      xyz="0 0 0" />
  </joint>
  <link
    name="Link33">
    <inertial>
      <origin
        xyz="-0.173898337093489 -0.0311678812011152 0.192562487600842"
        rpy="0 0 0" />
      <mass
        value="0.408138119584668" />
      <inertia
        ixx="0.00490290267097414"
        ixy="7.16935454095538E-18"
        ixz="-1.65766592879883E-07"
        iyy="0.00417290712094575"
        iyz="5.74439859055914E-19"
        izz="0.00905213370870661" />
    </inertial>
    <visual>
      <origin
        xyz="0 0 0"
        rpy="0 0 0" />
      <geometry>
        <mesh
          filename="package://cad_assembly_amr_final_1/meshes/Link33.STL" />
      </geometry>
      <material
        name="">
        <color
          rgba="0.792156862745098 0.819607843137255 0.933333333333333 1" />
      </material>
    </visual>
    <collision>
      <origin
        xyz="0 0 0"
        rpy="0 0 0" />
      <geometry>
        <mesh
          filename="package://cad_assembly_amr_final_1/meshes/Link33.STL" />
      </geometry>
    </collision>
  </link>
  <joint
    name="Joint33"
    type="fixed">
    <origin
      xyz="0 0 0"
      rpy="0 0 0" />
    <parent
      link="base_link" />
    <child
      link="Link33" />
    <axis
      xyz="0 0 0" />
  </joint>
  <link
    name="Link34">
    <inertial>
      <origin
        xyz="-0.0649400472508466 0.174832118798885 0.131935381448907"
        rpy="0 0 0" />
      <mass
        value="0.141033788770476" />
      <inertia
        ixx="0.000236938239126702"
        ixy="-3.122519163546E-21"
        ixz="-6.30413160234535E-20"
        iyy="0.00050739815814905"
        iyz="-3.60873959123404E-21"
        izz="0.00027384472995284" />
    </inertial>
    <visual>
      <origin
        xyz="0 0 0"
        rpy="0 0 0" />
      <geometry>
        <mesh
          filename="package://cad_assembly_amr_final_1/meshes/Link34.STL" />
      </geometry>
      <material
        name="">
        <color
          rgba="0.792156862745098 0.819607843137255 0.933333333333333 1" />
      </material>
    </visual>
    <collision>
      <origin
        xyz="0 0 0"
        rpy="0 0 0" />
      <geometry>
        <mesh
          filename="package://cad_assembly_amr_final_1/meshes/Link34.STL" />
      </geometry>
    </collision>
  </link>
  <joint
    name="Joint34"
    type="fixed">
    <origin
      xyz="0 0 0"
      rpy="0 0 0" />
    <parent
      link="base_link" />
    <child
      link="Link34" />
    <axis
      xyz="0 0 0" />
  </joint>
  <link
    name="Link35">
    <inertial>
      <origin
        xyz="-0.0649400472508466 -0.237167881201115 0.131935381448947"
        rpy="0 0 0" />
      <mass
        value="0.141033788770476" />
      <inertia
        ixx="0.000236938239126702"
        ixy="-1.25925623200838E-21"
        ixz="-2.79969718137102E-20"
        iyy="0.00050739815814905"
        iyz="-7.24703862451917E-21"
        izz="0.000273844729952839" />
    </inertial>
    <visual>
      <origin
        xyz="0 0 0"
        rpy="0 0 0" />
      <geometry>
        <mesh
          filename="package://cad_assembly_amr_final_1/meshes/Link35.STL" />
      </geometry>
      <material
        name="">
        <color
          rgba="0.792156862745098 0.819607843137255 0.933333333333333 1" />
      </material>
    </visual>
    <collision>
      <origin
        xyz="0 0 0"
        rpy="0 0 0" />
      <geometry>
        <mesh
          filename="package://cad_assembly_amr_final_1/meshes/Link35.STL" />
      </geometry>
    </collision>
  </link>
  <joint
    name="Joint35"
    type="fixed">
    <origin
      xyz="0 0 0"
      rpy="0 0 0" />
    <parent
      link="base_link" />
    <child
      link="Link35" />
    <axis
      xyz="0 0 0" />
  </joint>
  <link
    name="Link36">
    <inertial>
      <origin
        xyz="0.0160599527491533 -0.0311678812011232 0.172299999999946"
        rpy="0 0 0" />
      <mass
        value="0.153705208028359" />
      <inertia
        ixx="0.00206367743977507"
        ixy="8.84912654241048E-21"
        ixz="-5.12625797584132E-21"
        iyy="2.85493321272228E-05"
        iyz="-3.8868947067103E-21"
        izz="0.00206367743977507" />
    </inertial>
    <visual>
      <origin
        xyz="0 0 0"
        rpy="0 0 0" />
      <geometry>
        <mesh
          filename="package://cad_assembly_amr_final_1/meshes/Link36.STL" />
      </geometry>
      <material
        name="">
        <color
          rgba="0.792156862745098 0.819607843137255 0.933333333333333 1" />
      </material>
    </visual>
    <collision>
      <origin
        xyz="0 0 0"
        rpy="0 0 0" />
      <geometry>
        <mesh
          filename="package://cad_assembly_amr_final_1/meshes/Link36.STL" />
      </geometry>
    </collision>
  </link>
  <joint
    name="Joint36"
    type="fixed">
    <origin
      xyz="0 0 0"
      rpy="0 0 0" />
    <parent
      link="base_link" />
    <child
      link="Link36" />
    <axis
      xyz="0 0 0" />
  </joint>


<!--                     LIDAR LINK               -->


<link
    name="sensor_laser">
    <inertial>
      <origin
        xyz="0.0 0.0 0.0"
        rpy="0.0 0.0 0.0" />
      <mass
        value="0.1" />
      <inertia
        ixx="0.000145833" ixy = "0" ixz ="0"
               iyy="0.000" iyz = "0"
               izz="0.000208"  />
    </inertial>
    <visual>
      <origin
        xyz="0 0 0"
        rpy="1.56 0 0" />
      <geometry>
        <mesh
          filename="package://cad_assembly_amr_final_1/meshes/R2000.STL" scale="0.001 0.001 0.001" />
      </geometry>
      <material
        name="">
        <color
          rgba="0.792156862745098 0.819607843137255 0.933333333333333 1" />
      </material>
    </visual>
    <collision>
      <origin
        xyz="0 0 0"
        rpy="0 0 0" />
      <geometry>
        <mesh
          filename="package://cad_assembly_amr_final_1/meshes/R2000.STL"  scale="0.001 0.001 0.001" />
      </geometry>
    </collision>
  </link>
  <joint
    name="joint_sensor_laser"
    type="fixed">
    <origin
      xyz="0.18 -0.0325 0.228"
      rpy="0 0 0" />
    <parent
      link="Link15" />
    <child
      link="sensor_laser" />
    <axis
      xyz="0 0 0" />
  </joint>   


    
<!-- joint_sensor_laser -->
    <!-- <origin xyz="0.18 -0.0325 0.325" rpy="0.0 0.0 0.0"/> -->

</robot>
